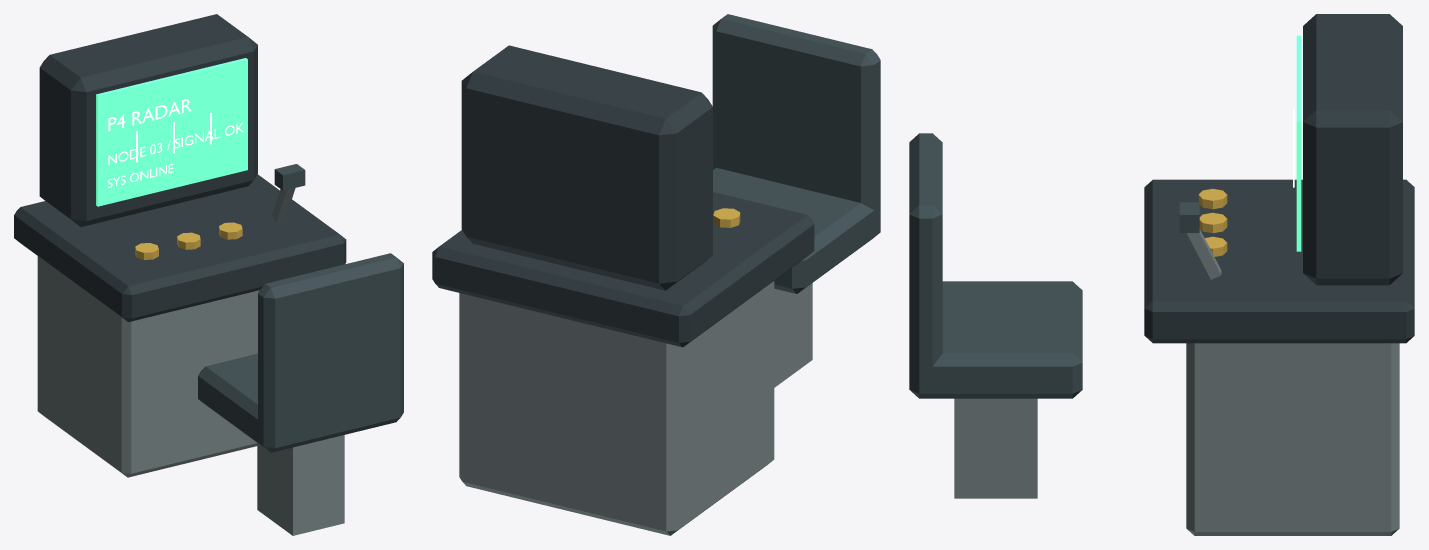
File: DeadRail_Radar_Console.fbx
3 views of the same model, side by side, from view 1: azimuth 30°, elevation 25°; view 2: azimuth 150°, elevation 25°; view 3: azimuth 270°, elevation 25° (orthographic). The views are drawn at different scales.
Parts seen in each view (by area): view 1: Console_Base.001, Console_Desk.001, Seat_Back.001, CRT_Housing.001, CRT_Screen.001, Operator_Seat.001, Seat_Pedestal.001, Lever_Grip.001, CRT_Status.001, CRT_Title.001, Lever.001; view 2: Console_Base.001, CRT_Housing.001, Seat_Back.001, Console_Desk.001, Operator_Seat.001, Seat_Pedestal.001; view 3: Console_Base.001, Console_Desk.001, CRT_Housing.001, Operator_Seat.001, Seat_Pedestal.001, Seat_Back.001, CRT_Screen.001, Lever.001, Lever_Grip.001.
Part boxes in pixels (x1=…): Console_Base.001: x1=37, y1=256, x2=259, y2=477; Console_Desk.001: x1=14, y1=174, x2=346, y2=321; Seat_Back.001: x1=258, y1=253, x2=403, y2=424; CRT_Housing.001: x1=39, y1=14, x2=257, y2=226; CRT_Screen.001: x1=96, y1=58, x2=247, y2=206; Operator_Seat.001: x1=198, y1=353, x2=403, y2=452; Seat_Pedestal.001: x1=257, y1=435, x2=344, y2=535; Lever_Grip.001: x1=274, y1=164, x2=305, y2=190; CRT_Status.001: x1=108, y1=122, x2=243, y2=164; CRT_Title.001: x1=108, y1=99, x2=191, y2=131; Lever.001: x1=272, y1=188, x2=295, y2=222; Console_Base.001: x1=459, y1=281, x2=774, y2=535; CRT_Housing.001: x1=461, y1=45, x2=712, y2=290; Seat_Back.001: x1=712, y1=14, x2=880, y2=210; Console_Desk.001: x1=432, y1=192, x2=814, y2=347; Operator_Seat.001: x1=713, y1=168, x2=880, y2=293; Seat_Pedestal.001: x1=774, y1=283, x2=812, y2=387; Console_Base.001: x1=1186, y1=343, x2=1399, y2=535; Console_Desk.001: x1=1144, y1=179, x2=1414, y2=343; CRT_Housing.001: x1=1303, y1=14, x2=1402, y2=285; Operator_Seat.001: x1=909, y1=281, x2=1082, y2=398; Seat_Pedestal.001: x1=954, y1=398, x2=1037, y2=498; Seat_Back.001: x1=909, y1=133, x2=942, y2=366; CRT_Screen.001: x1=1296, y1=35, x2=1301, y2=251; Lever.001: x1=1187, y1=229, x2=1221, y2=279; Lever_Grip.001: x1=1179, y1=202, x2=1199, y2=232.
Bounding box in the file's own units: 0.91 × 1.4 × 1.52.
